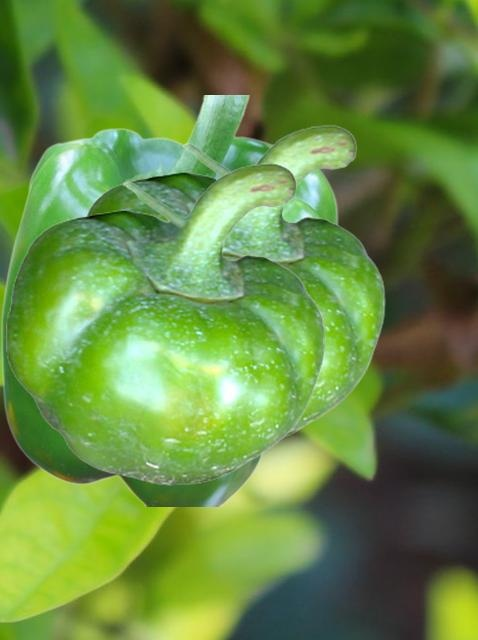bell_pepper: (0, 95, 337, 505), (6, 162, 324, 484), (83, 124, 384, 443)
